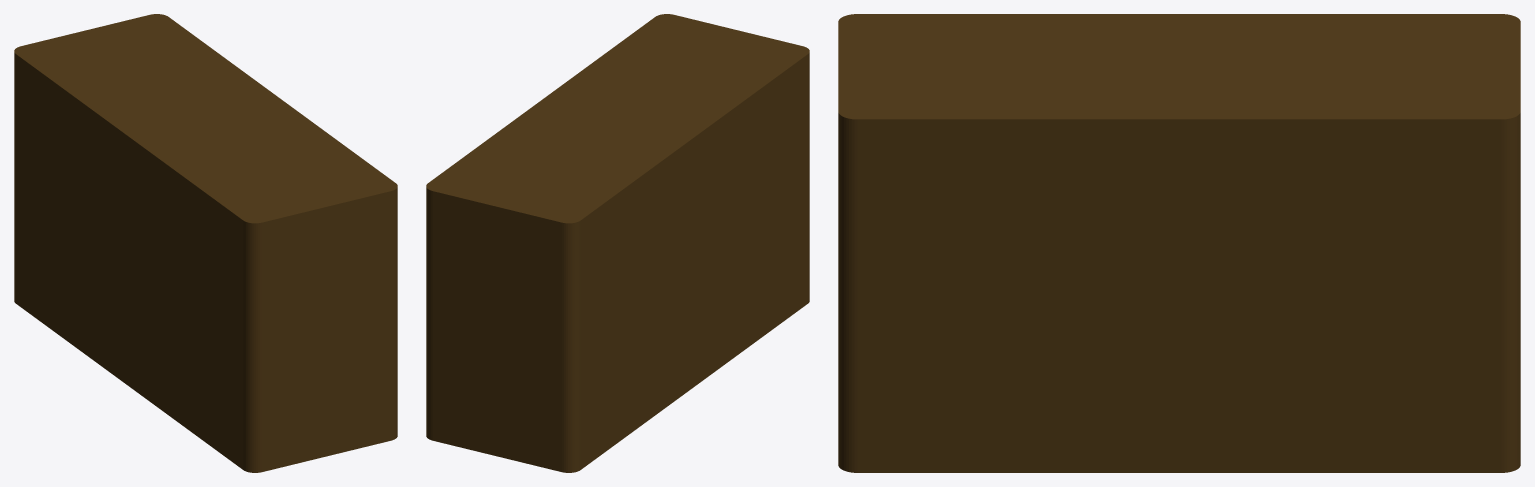
File: obstacle.dae
The picture shows the model from 3 angles, left to right: view 1: azimuth 30°, elevation 25°; view 2: azimuth 150°, elevation 25°; view 3: azimuth 270°, elevation 25°; orthographic projection. The views are drawn at different scales.
Parts seen in each view (by area): view 1: Obstacle; view 2: Obstacle; view 3: Obstacle.
Part boxes in pixels (x1=…): Obstacle: x1=14, y1=14, x2=397, y2=472; Obstacle: x1=426, y1=14, x2=809, y2=472; Obstacle: x1=838, y1=14, x2=1520, y2=472.
Size of the model in its own units: 0.128 by 0.35 by 0.2.
